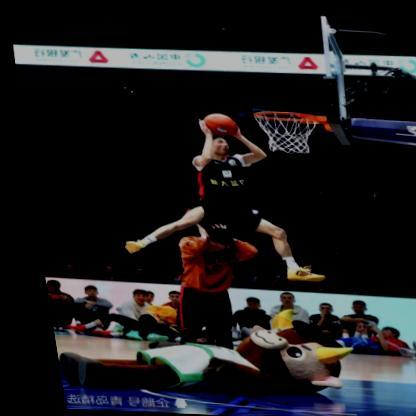basketball: (198, 113, 232, 137)
rim: (248, 110, 318, 154)
